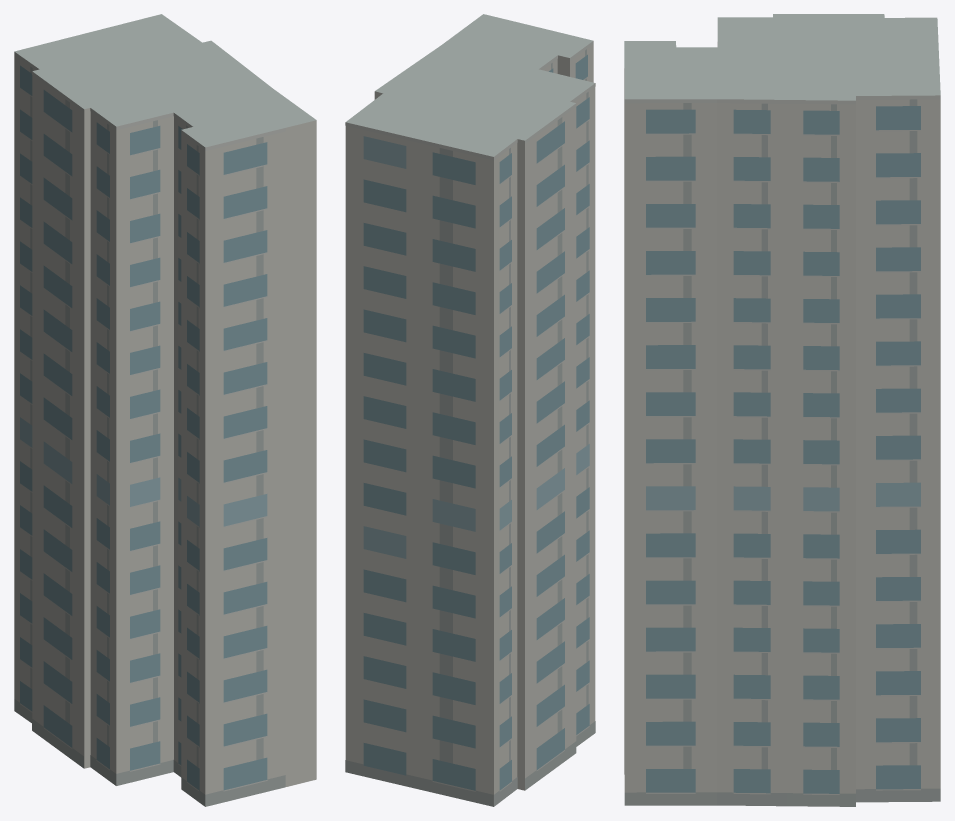
The model's file is residential-1ea3bf6d-95f0-49a8-bd4c-98915e5ffdb9.glb.
3 views of the same model, side by side, from view 1: azimuth 30°, elevation 25°; view 2: azimuth 150°, elevation 25°; view 3: azimuth 270°, elevation 25° (orthographic). The views are drawn at different scales.
Parts seen in each view (by area): view 1: residential-1ea3bf6d-95f0-49a8-bd4c-98915e5ffdb9.tmp; view 2: residential-1ea3bf6d-95f0-49a8-bd4c-98915e5ffdb9.tmp; view 3: residential-1ea3bf6d-95f0-49a8-bd4c-98915e5ffdb9.tmp.
Part boxes in pixels (<box>): residential-1ea3bf6d-95f0-49a8-bd4c-98915e5ffdb9.tmp: <box>14,14,316,806</box>; residential-1ea3bf6d-95f0-49a8-bd4c-98915e5ffdb9.tmp: <box>345,14,595,806</box>; residential-1ea3bf6d-95f0-49a8-bd4c-98915e5ffdb9.tmp: <box>624,14,940,806</box>.
Bounding box in the file's own units: 11.86 × 45 × 18.28.
